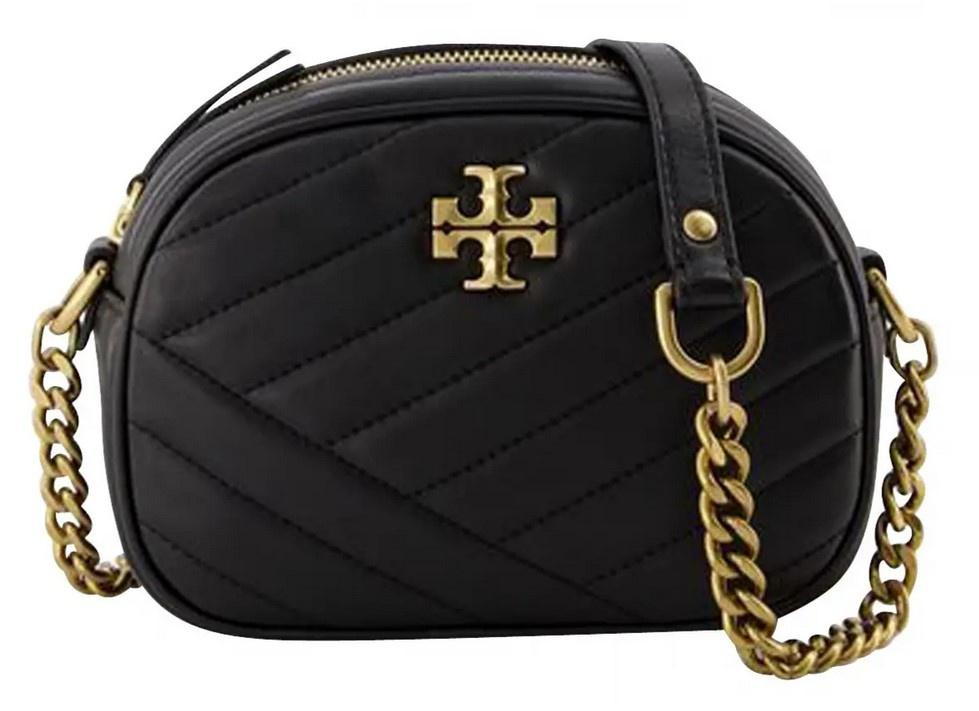TORY-BURCH: (433, 166, 556, 289)
